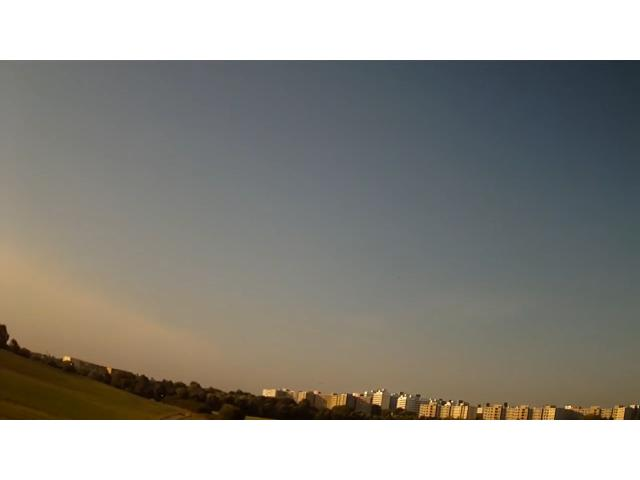Anti-Drone: (390, 272, 404, 284)
